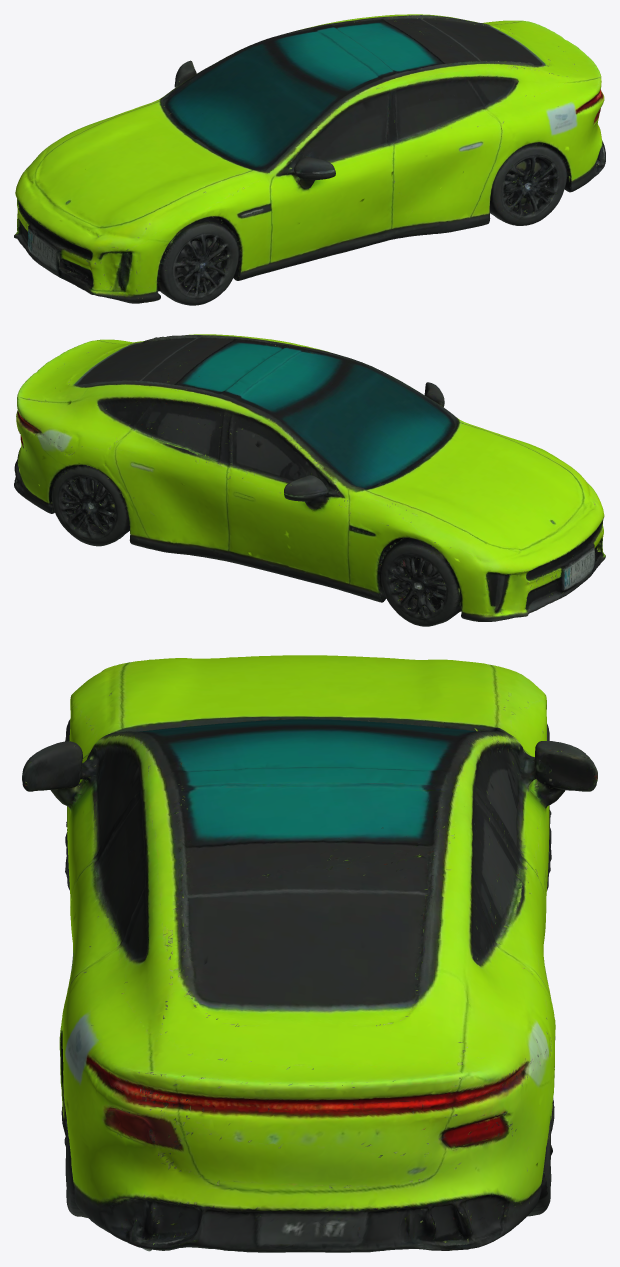
The model's file is Xpeng.glb.
The picture shows the model from 3 angles, top to bottom: view 1: azimuth 30°, elevation 25°; view 2: azimuth 150°, elevation 25°; view 3: azimuth 270°, elevation 25°; orthographic projection. The views are drawn at different scales.
Parts seen in each view (by area): view 1: Mesh_0; view 2: Mesh_0; view 3: Mesh_0.
Boxes of the visible parts, box(x1,y1,x2,y2) form: Mesh_0: box(14, 14, 605, 305); Mesh_0: box(14, 334, 605, 626); Mesh_0: box(22, 655, 597, 1252).
Size of the model in its own units: 2 by 0.5787 by 0.9308.
1 material, 1 textured.
